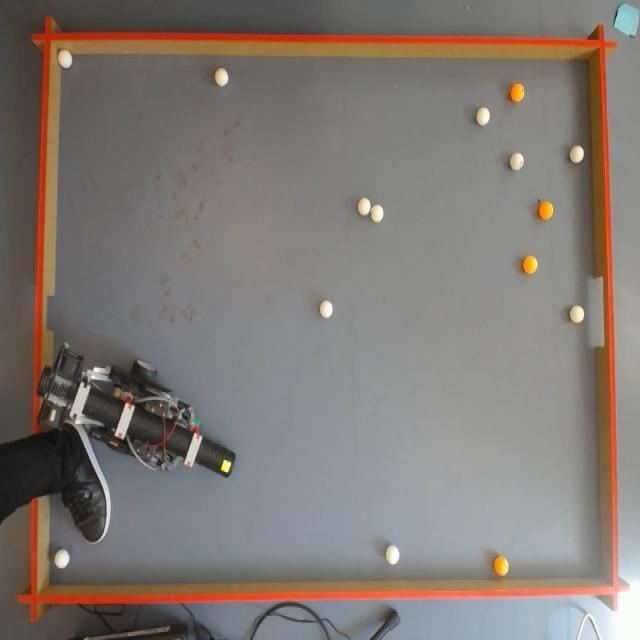orange: (538, 198, 556, 219), (494, 554, 511, 576), (520, 254, 536, 274), (510, 83, 526, 102)
robot: (35, 351, 228, 496)
white: (54, 548, 70, 569), (358, 196, 373, 216), (216, 66, 230, 86), (58, 50, 72, 70), (386, 545, 400, 565), (476, 108, 489, 128), (321, 299, 334, 319), (371, 202, 384, 222), (510, 152, 524, 170), (571, 306, 586, 322), (572, 146, 584, 164)
